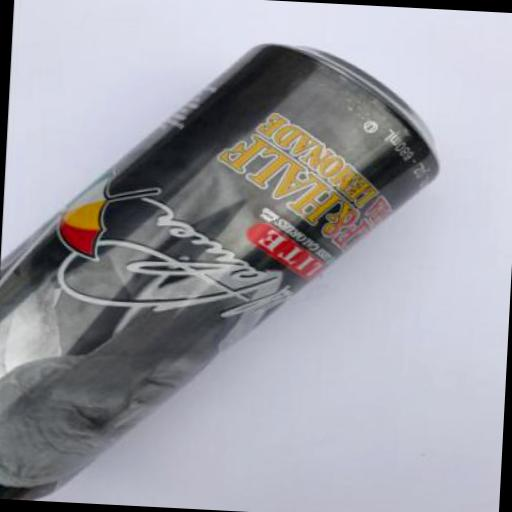metal: (0, 27, 445, 512)
